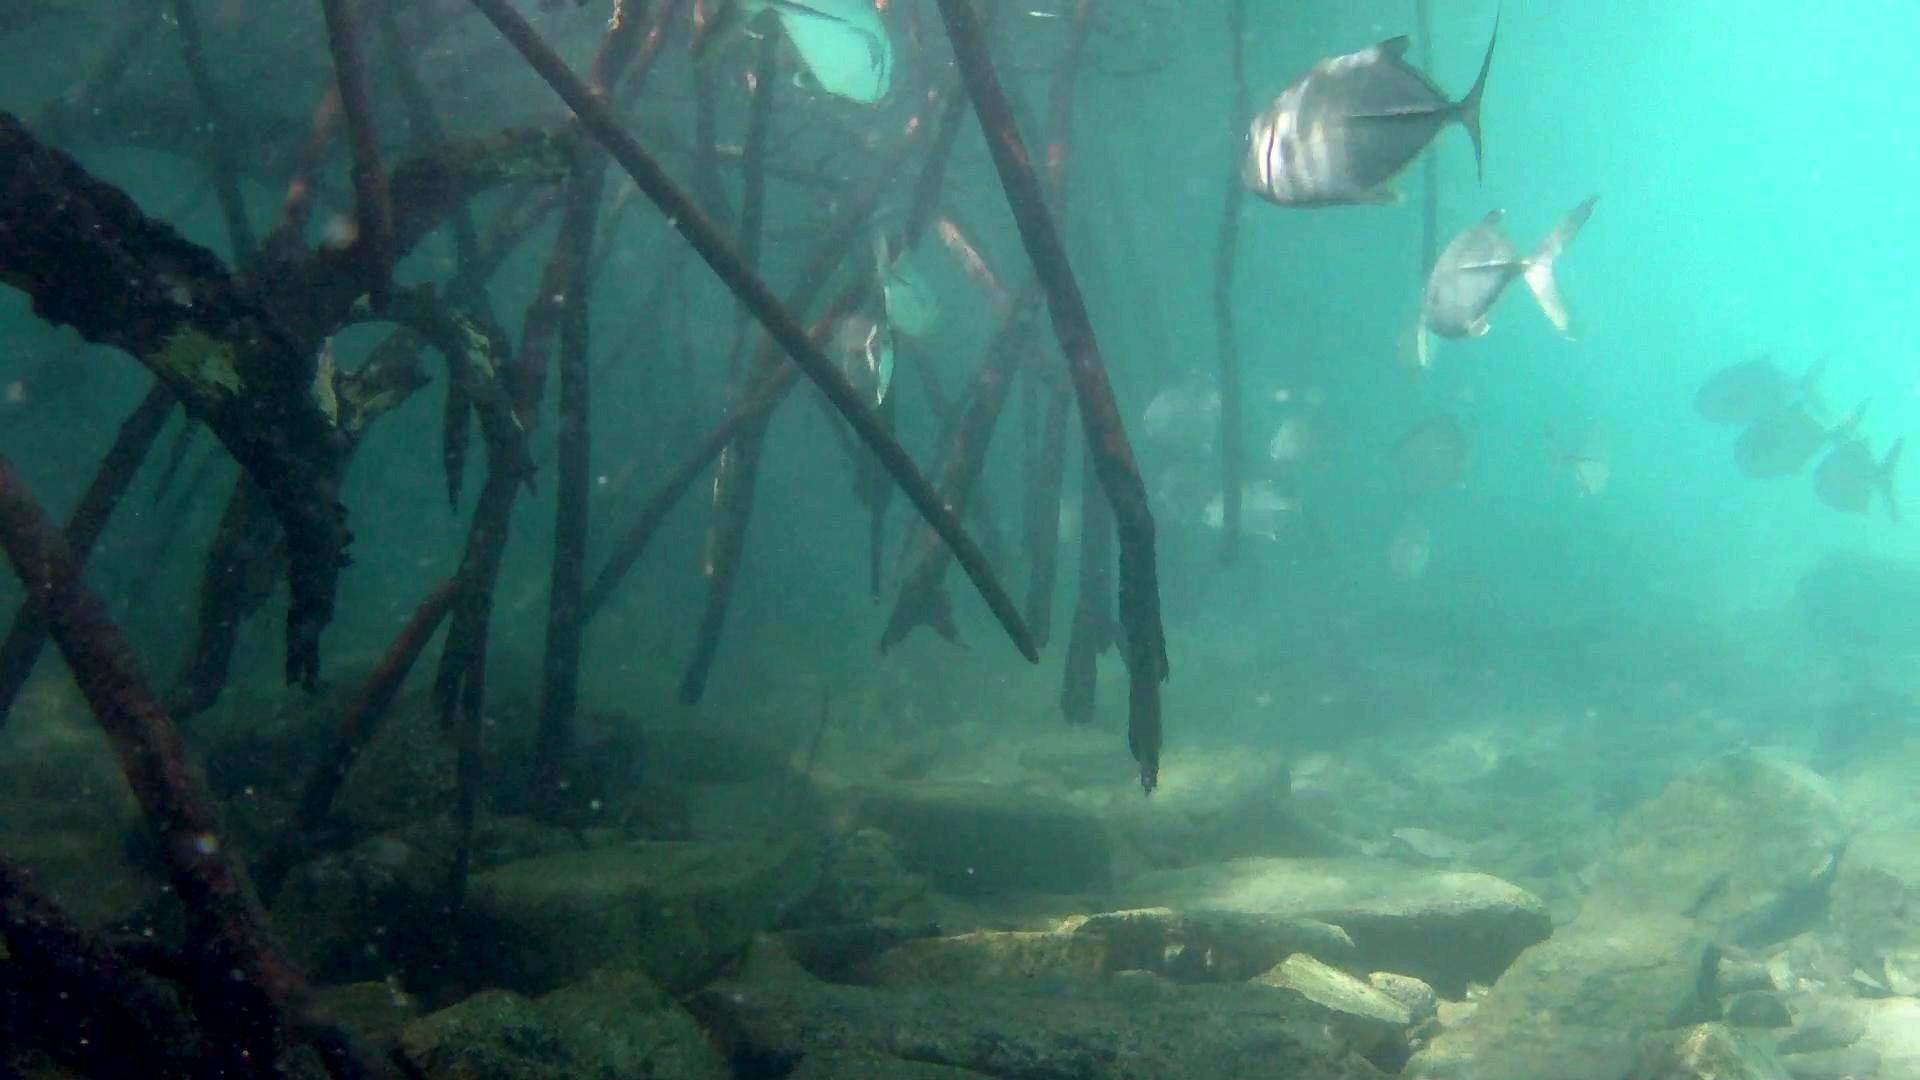caranx: (1225, 16, 1520, 218), (1415, 190, 1610, 355), (728, 0, 906, 108)
